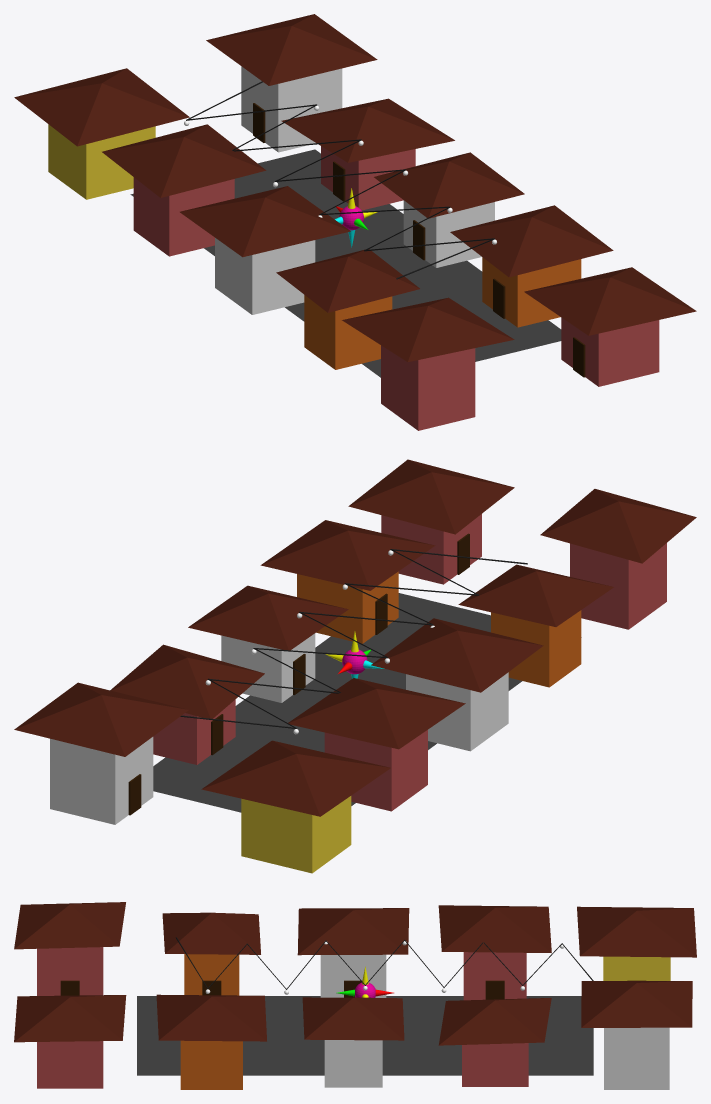
The model's file is posada.obj.
3 renders of one model, top to bottom at view 1: azimuth 30°, elevation 25°; view 2: azimuth 150°, elevation 25°; view 3: azimuth 270°, elevation 25°, orthographic. The views are drawn at different scales.
Visible parts, largest first — view 1: Calle_Adoquin, Cone.008, Cone.009, Cone.004, Cone.006, Cone.001, Cube, Cone.003, Cone, Cone.007, Cone.005, Cone.002 (+11 smaller); view 2: Calle_Adoquin, Cone.008, Cone.009, Cone.004, Cone.006, Cone.001, Cone.003, Cube.018, Cone, Cube.016, Cone.007, Cone.005 (+11 smaller); view 3: Calle_Adoquin, Cone.008, Cone.009, Cone.006, Cone.004, Cone.001, Cone.003, Cone.007, Cone, Cone.005, Cube.018, Cone.002 (+13 smaller).
Boxes of the visible parts, x1,y1,x2,y2 form: Calle_Adoquin: (130,149,561,377); Cone.008: (14,68,189,146); Cone.009: (206,14,377,85); Cone.004: (180,186,350,257); Cone.006: (102,124,266,197); Cone.001: (524,267,696,335); Cube: (381,345,475,430); Cone.003: (450,205,613,277); Cone: (342,297,514,361); Cone.007: (281,98,454,162); Cone.005: (374,152,524,218); Cone.002: (276,249,419,312); Calle_Adoquin: (153,593,581,812); Cone.008: (201,740,390,816); Cone.009: (14,682,188,756); Cone.004: (371,618,543,692); Cone.006: (288,678,465,749); Cone.001: (348,459,514,534); Cone.003: (260,520,435,590); Cube.018: (50,737,153,824); Cone: (540,489,696,563); Cube.016: (241,796,351,873); Cone.007: (110,644,264,718); Cone.005: (188,585,348,650); Calle_Adoquin: (137,996,593,1075); Cone.008: (577,906,696,957); Cone.009: (581,981,692,1027); Cone.006: (438,905,551,953); Cone.004: (297,908,409,955); Cone.001: (14,995,126,1042); Cone.003: (156,994,266,1041); Cone.007: (438,998,551,1045); Cone: (14,902,125,949); Cone.005: (302,997,404,1040); Cube.018: (604,1027,669,1089); Cone.002: (162,912,260,954).
Bounding box in the file's own units: 19.67 × 6.53 × 43.38.
